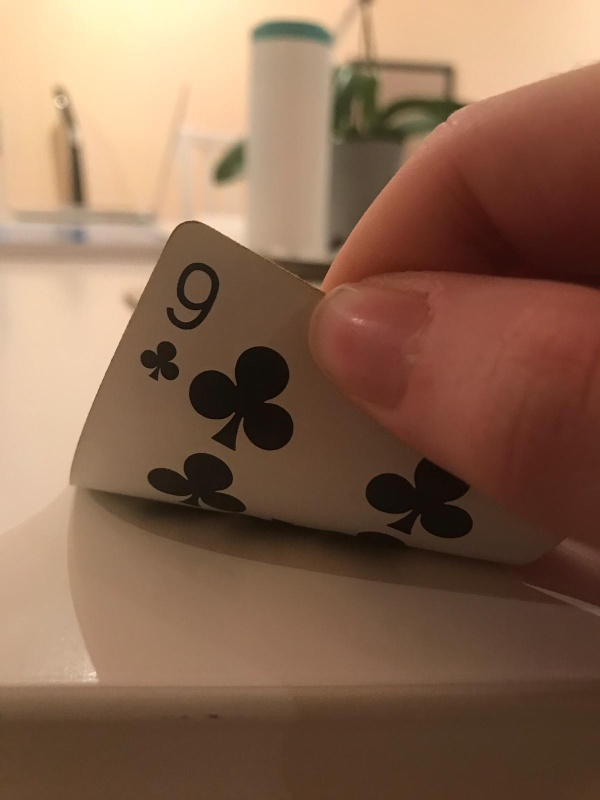C9: (136, 256, 220, 390)
